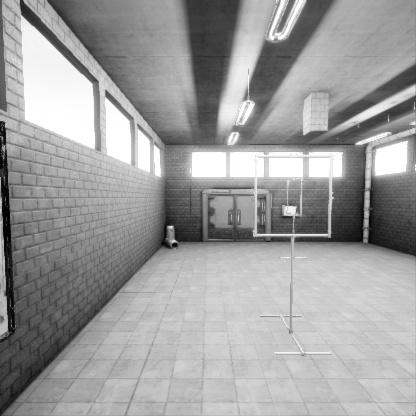gate: (255, 184, 335, 262), (287, 201, 302, 240)
